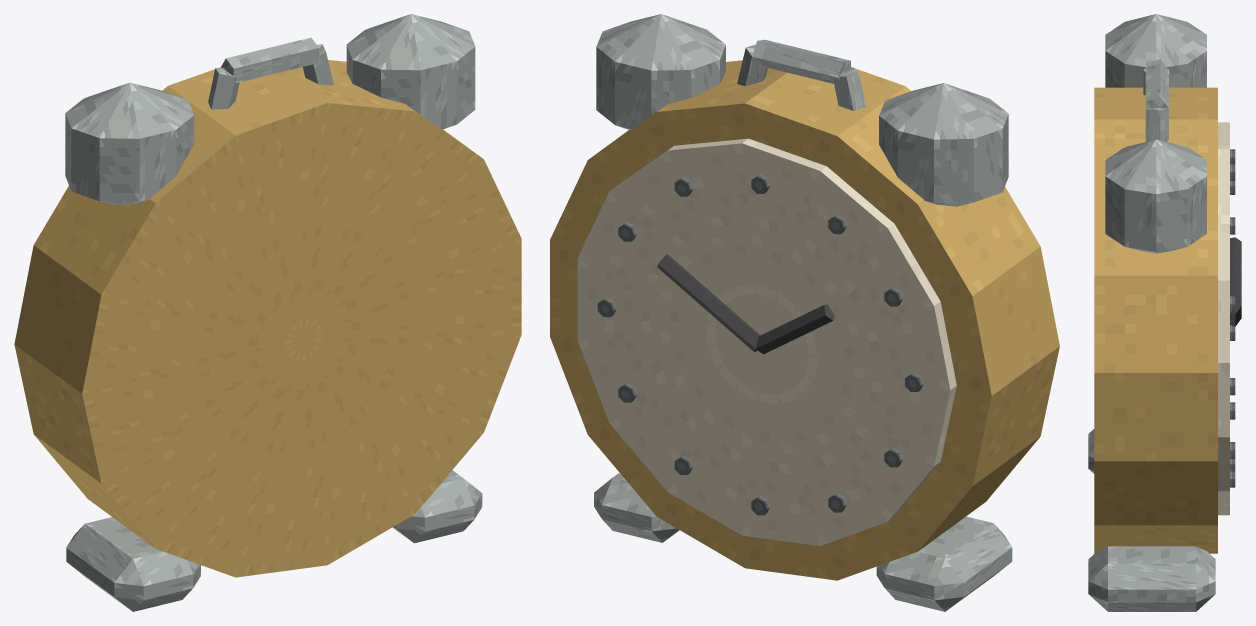
File: alarmclock.glb
3 renders of one model, left to right at view 1: azimuth 30°, elevation 25°; view 2: azimuth 150°, elevation 25°; view 3: azimuth 270°, elevation 25°, orthographic. The views are drawn at different scales.
Visible parts, largest first — view 1: block_clock case, block_alarm bell (×2), block_clock foot (×2), block_carry loop 1, block_carry loop 0, block_carry loop 2; view 2: block_clock dial, block_clock case, block_alarm bell (×2), block_clock foot (×2), block_carry loop 1, block_clock hands 1, block_clock hands 0, block_carry loop 0, block_carry loop 2; view 3: block_clock case, block_alarm bell (×2), block_clock foot (×2), block_clock dial, block_carry loop 1, block_carry loop 2, block_clock hands 0.
Part boxes in pixels (x1,y1,x2,y2): block_clock case: (14,60,521,577); block_alarm bell (×2): (65,14,475,205); block_clock foot (×2): (66,470,482,611); block_carry loop 1: (221,37,318,83); block_carry loop 0: (208,68,239,109); block_carry loop 2: (303,44,333,85); block_clock dial: (577,138,956,545); block_clock case: (550,60,1059,580); block_alarm bell (×2): (596,14,1008,206); block_clock foot (×2): (594,473,1012,611); block_carry loop 1: (752,39,850,83); block_clock hands 1: (657,254,760,352); block_clock hands 0: (755,304,834,354); block_carry loop 0: (833,67,866,110); block_carry loop 2: (737,44,767,86); block_clock case: (1094,87,1217,553); block_alarm bell (×2): (1105,14,1206,253); block_clock foot (×2): (1088,429,1215,611); block_clock dial: (1218,122,1229,515); block_carry loop 1: (1145,59,1168,107); block_carry loop 2: (1145,108,1168,141); block_clock hands 0: (1230,237,1241,305).
Size of the model in its own units: 0.1091 by 0.1197 by 0.036.
Materials: 1 (1 with a texture image).
